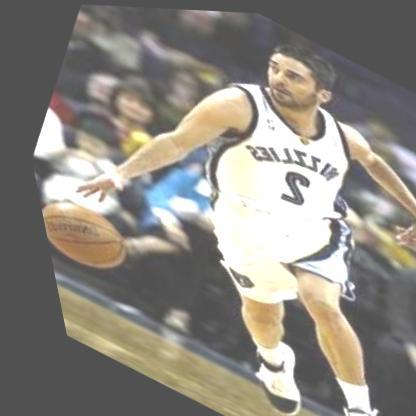basketball: (29, 183, 135, 285)
